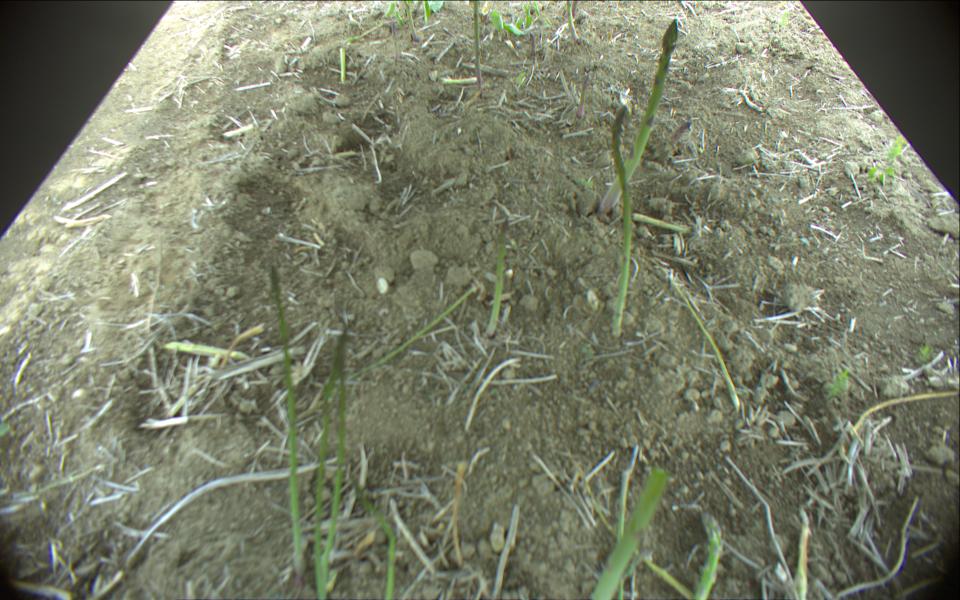aspa: (594, 19, 680, 218), (349, 283, 479, 383), (266, 265, 307, 578), (660, 259, 740, 409), (581, 468, 665, 600), (310, 331, 342, 600), (352, 467, 404, 600), (325, 326, 350, 579), (610, 101, 633, 344), (483, 214, 510, 342), (692, 509, 719, 600), (165, 340, 249, 359), (629, 209, 684, 230), (472, 1, 483, 94), (400, 1, 417, 35), (567, 1, 578, 40), (339, 47, 348, 84), (421, 1, 429, 20)
